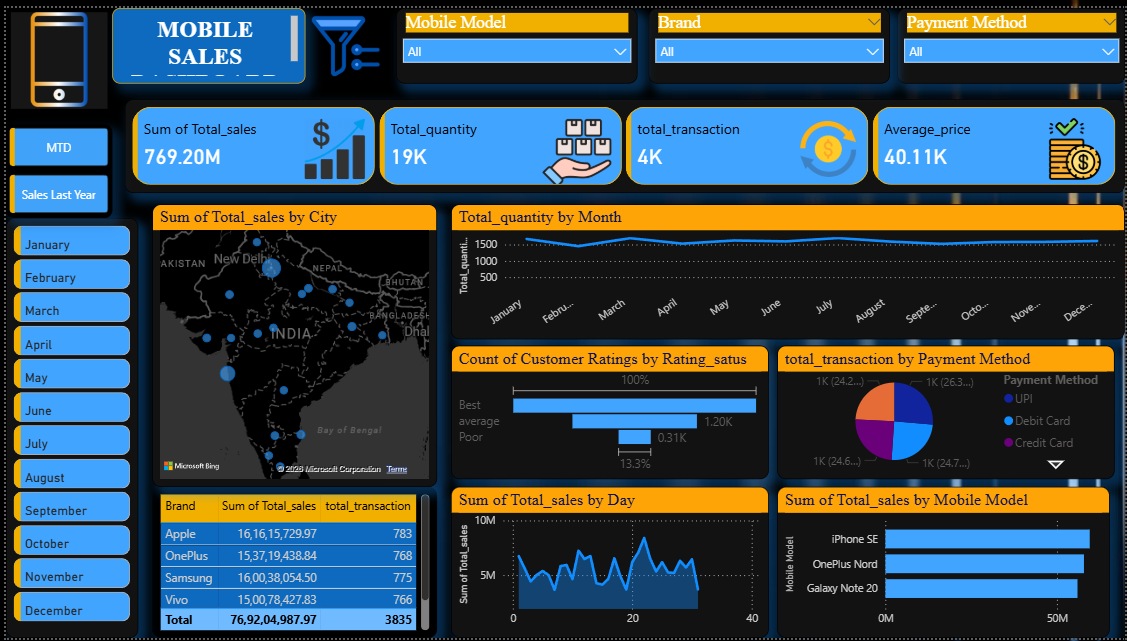

This screenshot's page, from the dashboard's own definition file:
{"tool":"powerbi","page":{"name":"Page 1","canvas":[1280,720],"ordinal":0},"visuals":[{"type":"tableEx","fields":{"Values":["Sheet1.Brand","Sum(Sheet1.Total_sales)","Sheet1.total_transaction"]},"box":[167.1,547.1,325.7,172.9],"z":0},{"type":"advancedSlicerVisual","fields":{"Values":["Custom Calendar.Date_calendar.Variation.Date Hierarchy.Month"]},"box":[0,240,151.4,480],"z":1000},{"type":"cardVisual","fields":{"Data":["Sum(Sheet1.Total_sales)","Sheet1.Total_quantity","Sheet1.total_transaction","Sheet1.Average_price"]},"box":[135.7,104.3,1144.3,107.1],"z":2000},{"type":"image","box":[0,0,121.2,120],"z":3000},{"type":"slicer","fields":{"Values":["Sheet1.Payment Method"]},"box":[1018.8,0,261.2,86.2],"z":4000},{"type":"slicer","fields":{"Values":["Sheet1.Brand"]},"box":[733.8,0,276.2,86.2],"z":5000},{"type":"slicer","fields":{"Values":["Sheet1.Mobile Model"]},"box":[446.2,0,276.2,86.2],"z":6000},{"type":"image","box":[341.2,0,93.8,87.5],"z":7000},{"type":"textbox","box":[121.2,0,220,86.2],"z":8000},{"type":"map","fields":{"Category":["Sheet1.City"],"Size":["Sum(Sheet1.Total_sales)"]},"box":[167.1,224.3,325.7,322.9],"z":9000},{"type":"lineChart","fields":{"Y":["Sheet1.Total_quantity"],"Category":["Custom Calendar.Date_calendar.Variation.Date Hierarchy.Month"]},"box":[508.6,224.3,771.4,154.3],"z":10000},{"type":"funnel","fields":{"Y":["CountNonNull(Sheet1.Customer Ratings)"],"Category":["Sheet1.Rating_satus"]},"box":[508.6,385.7,362.9,152.9],"z":11000},{"type":"pieChart","fields":{"Category":["Sheet1.Payment Method"],"Y":["Sheet1.total_transaction"]},"box":[881.4,385.7,385.7,152.9],"z":12000},{"type":"areaChart","fields":{"Y":["Sum(Sheet1.Total_sales)"],"Category":["Custom Calendar.Date_calendar.Variation.Date Hierarchy.Day"]},"box":[508.6,547.1,362.9,172.9],"z":13000},{"type":"barChart","fields":{"Category":["Sheet1.Mobile Model"],"Y":["Sum(Sheet1.Total_sales)"]},"box":[881.4,547.1,380,172.9],"z":14000},{"type":"pageNavigator","box":[0,132.9,121.4,107.1],"z":15000}]}

Visuals, with their boxes in screenshot pixels (x1, y1, x2, y2), scaled from the page's 1280x720 canvas onto the 1127x641 screenshot:
tableEx - Sheet1.Brand x Sum(Sheet1.Total_sales): [x1=147, y1=487, x2=434, y2=640]
advancedSlicerVisual - Custom Calendar.Date_calendar.Variation.Date Hierarchy.Month: [x1=0, y1=214, x2=133, y2=640]
cardVisual - Sum(Sheet1.Total_sales) x Sheet1.Total_quantity: [x1=119, y1=93, x2=1126, y2=188]
image: [x1=0, y1=0, x2=107, y2=107]
slicer - Sheet1.Payment Method: [x1=897, y1=0, x2=1126, y2=77]
slicer - Sheet1.Brand: [x1=646, y1=0, x2=889, y2=77]
slicer - Sheet1.Mobile Model: [x1=393, y1=0, x2=636, y2=77]
image: [x1=300, y1=0, x2=383, y2=78]
textbox: [x1=107, y1=0, x2=300, y2=77]
map - Sheet1.City x Sum(Sheet1.Total_sales): [x1=147, y1=200, x2=434, y2=487]
lineChart - Sheet1.Total_quantity x Custom Calendar.Date_calendar.Variation.Date Hierarchy.Month: [x1=448, y1=200, x2=1126, y2=337]
funnel - CountNonNull(Sheet1.Customer Ratings) x Sheet1.Rating_satus: [x1=448, y1=343, x2=767, y2=480]
pieChart - Sheet1.Payment Method x Sheet1.total_transaction: [x1=776, y1=343, x2=1116, y2=480]
areaChart - Sum(Sheet1.Total_sales) x Custom Calendar.Date_calendar.Variation.Date Hierarchy.Day: [x1=448, y1=487, x2=767, y2=640]
barChart - Sheet1.Mobile Model x Sum(Sheet1.Total_sales): [x1=776, y1=487, x2=1111, y2=640]
pageNavigator: [x1=0, y1=118, x2=107, y2=214]
